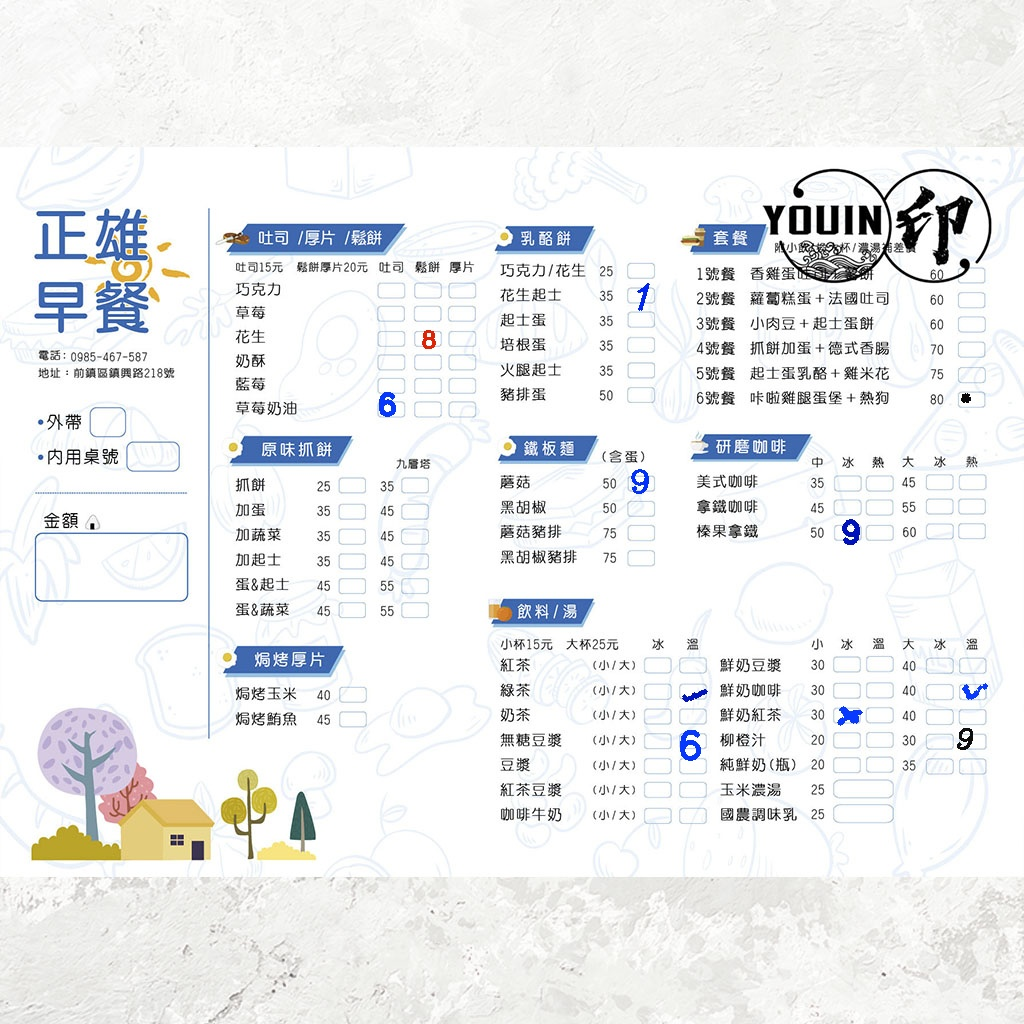marked_circle: (958, 391, 984, 405)
marked_number_1: (628, 288, 654, 302)
marked_number_6: (377, 401, 403, 415), (679, 732, 705, 746)
marked_number_8: (414, 330, 440, 344)
marked_number_9: (627, 474, 653, 488), (957, 732, 983, 746), (834, 524, 860, 538)
marked_tick: (678, 686, 704, 700), (960, 684, 986, 698)
marked_x: (834, 707, 860, 721)
